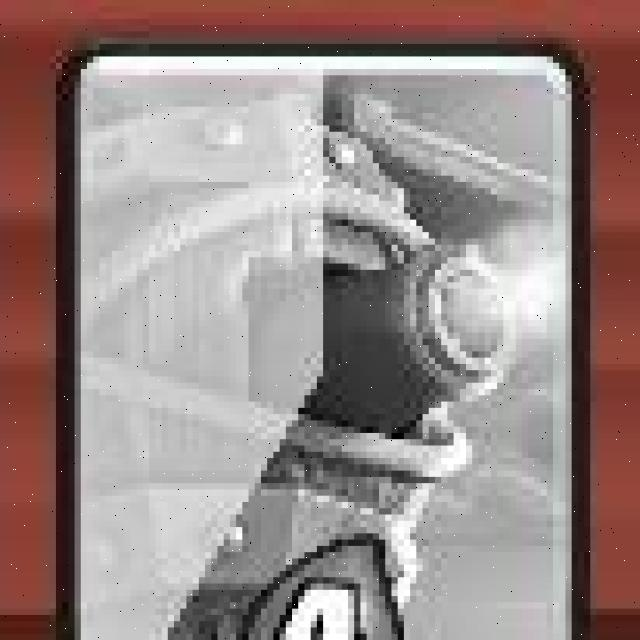Flying_Machine: (57, 39, 593, 640)
